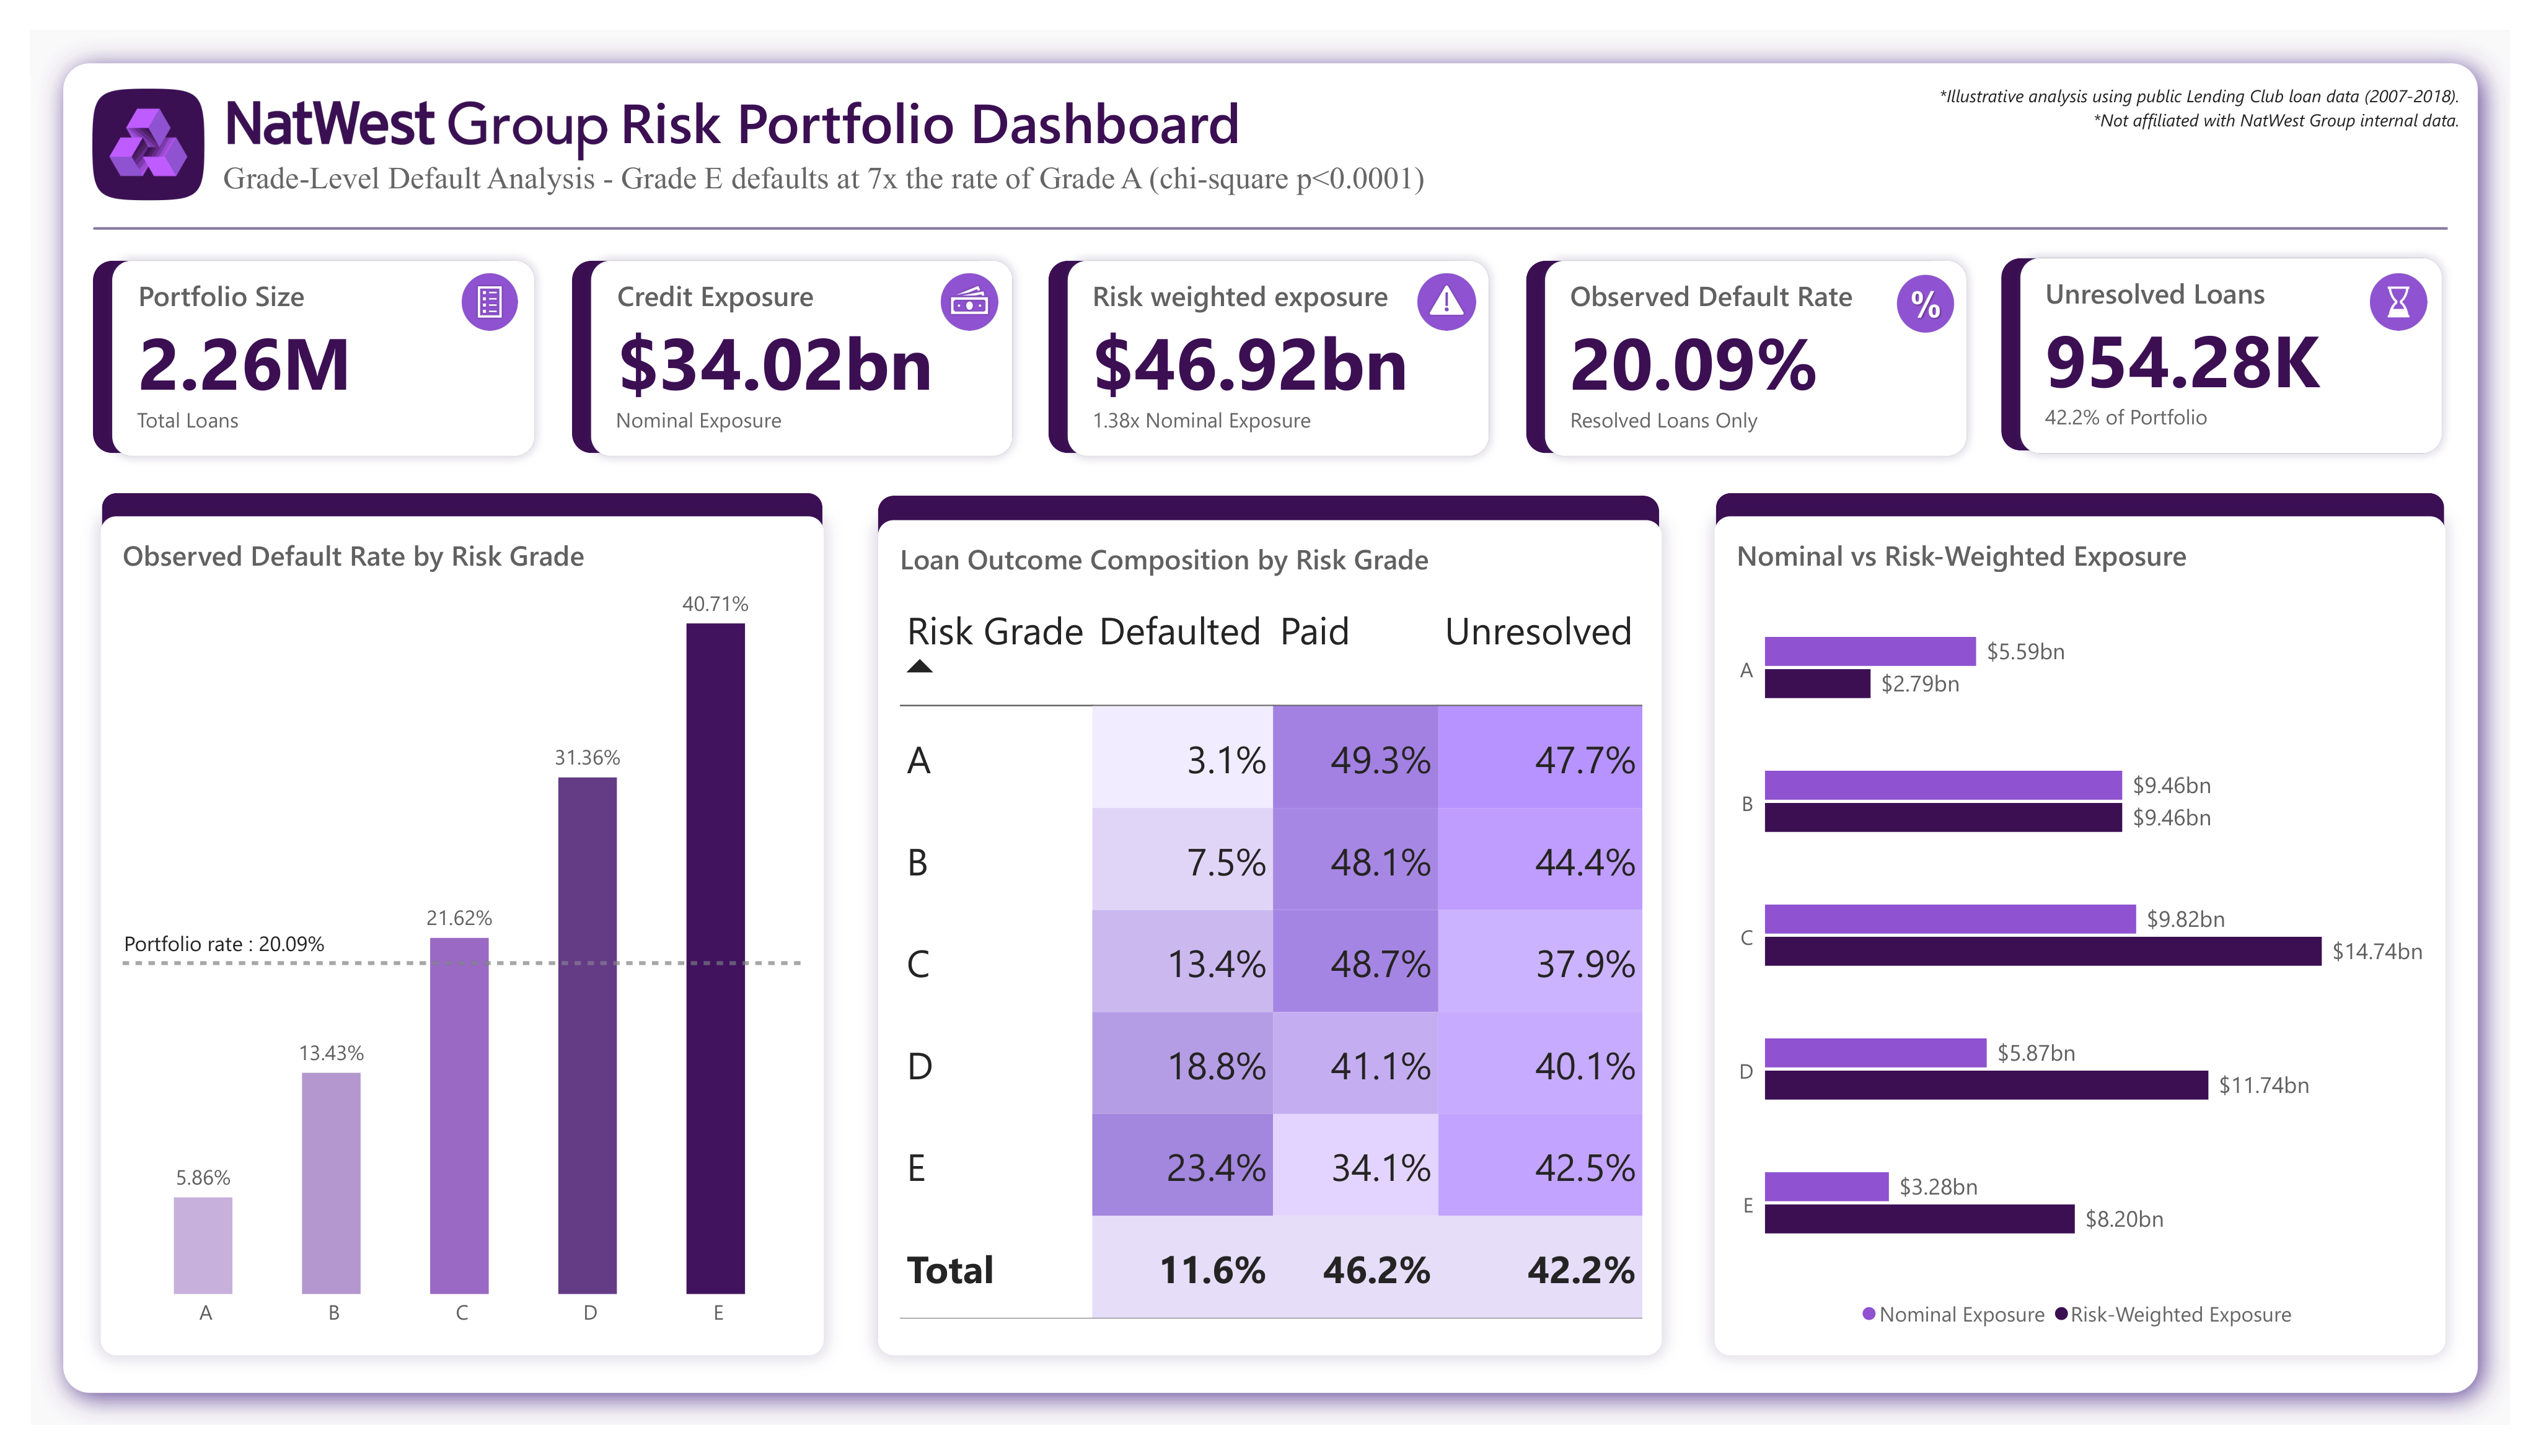

This screenshot's page, from the dashboard's own definition file:
{"tool":"powerbi","page":{"name":"Page 1","canvas":[1920,1080],"ordinal":0},"visuals":[{"type":"shape","box":[0,0,1920,1080],"z":0},{"type":"shape","box":[1305,358,564,666],"z":1000},{"type":"clusteredBarChart","title":"Nominal vs Risk-Weighted Exposure","fields":{"Category":["grade_summary.derived_grade_code"],"Y":["Sum(grade_summary.total_exposure)","Sum(grade_summary.weighted_exposure)"]},"box":[1304,376,566,650],"z":2000},{"type":"shape","box":[55,358,558,666],"z":3000},{"type":"shape","box":[656,360.5,605,664],"z":4000},{"type":"clusteredColumnChart","title":"Observed Default Rate by Risk Grade","fields":{"Category":["grade_summary.derived_grade_code"],"Y":["grade_summary.Observed Default Rate"]},"box":[54,376,560,650],"z":5000},{"type":"pivotTable","title":"Loan Outcome Composition by Risk Grade","fields":{"Rows":["grade_summary.derived_grade_code"],"Values":["grade_summary.Pct Defaulted","grade_summary.Pct Paid","grade_summary.Pct Unresolved"]},"box":[655.7,378.6,607.1,647.1],"z":6000},{"type":"image","box":[48,44,90,90],"z":7000},{"type":"image","box":[150,16,296,112],"z":8000},{"type":"shape","box":[1526,176.4,327.9,149],"z":8000,"group":"g1"},{"type":"shape","box":[787.6,178.4,327.9,149],"z":8000,"group":"g2"},{"type":"shape","box":[1157.5,178.4,327.9,149],"z":8000,"group":"g3"},{"type":"group","id":"g1","title":"Group 1","box":[1526,168,349.4,166.6],"z":8500,"group":"g6"},{"type":"group","id":"g2","title":"Group 1","box":[787.6,170,349.4,166.6],"z":8500,"group":"g4"},{"type":"group","id":"g3","title":"Group 1","box":[1157.5,170,349.4,166.6],"z":8500,"group":"g5"},{"type":"textbox","box":[148.5,101.4,1030.6,56.2],"z":9000},{"type":"shape","box":[1532.6,168,342.8,166.6],"z":9000,"group":"g1"},{"type":"shape","box":[794.2,170,342.8,166.6],"z":9000,"group":"g2"},{"type":"shape","box":[1164.1,170,342.8,166.6],"z":9000,"group":"g3"},{"type":"shape","box":[48,120,1824,66],"z":10000},{"type":"textbox","box":[456,41,518.3,71.7],"z":11000},{"type":"cardVisual","fields":{"Data":["Sum(grade_summary.num_unresolved)"]},"box":[1544.5,168,330.9,144.9],"z":11000,"group":"g1"},{"type":"cardVisual","fields":{"Data":["Sum(grade_summary.weighted_exposure)"]},"box":[806.1,170,330.9,144.9],"z":11000,"group":"g2"},{"type":"cardVisual","fields":{"Data":["grade_summary.Observed Default Rate"]},"box":[1176,170,330.9,144.9],"z":11000,"group":"g3"},{"type":"shape","box":[48.3,178.4,327.9,149],"z":12000},{"type":"textbox","box":[1559.7,288.4,281.7,34.4],"z":12001,"group":"g1"},{"type":"textbox","box":[821.3,290.4,281.7,34.4],"z":12001,"group":"g2"},{"type":"textbox","box":[1191.2,290.4,281.7,34.4],"z":12001,"group":"g3"},{"type":"shape","box":[54.9,170,342.8,166.6],"z":13000},{"type":"shape","box":[419.1,178.4,327.9,149],"z":14000},{"type":"cardVisual","fields":{"Data":["grade_summary.Total Loans"]},"box":[66.8,170,330.9,144.9],"z":15000},{"type":"shape","box":[425.7,170,342.8,166.6],"z":16000},{"type":"group","id":"g4","title":"Group 2","box":[787.6,170,349.4,166.6],"z":17000},{"type":"textbox","box":[82.1,290.4,281.7,34.4],"z":18000},{"type":"cardVisual","fields":{"Data":["Sum(grade_summary.total_exposure)"]},"box":[437.6,170,330.9,144.9],"z":19000},{"type":"group","id":"g5","title":"Group 2","box":[1157.5,170,349.4,166.6],"z":20000},{"type":"textbox","box":[452.9,290.4,281.7,34.4],"z":21000},{"type":"group","id":"g6","title":"Group 2","box":[1526,168,349.4,166.6],"z":22000},{"type":"image","box":[705,188,44,44],"z":23000},{"type":"image","box":[329,188,53,44],"z":24000},{"type":"image","box":[1069.1,188.2,54.5,43.6],"z":25000},{"type":"image","box":[1437.1,185.7,62.9,60.7],"z":26000},{"type":"image","box":[1810,188,47,44],"z":27000},{"type":"textbox","box":[72,696,300,34],"z":28000},{"type":"textbox","box":[1238.9,40,642.2,44.4],"z":28001}]}

Visuals, with their boxes on the page's 1920x1080 design canvas (x1, y1, x2, y2). These are canvas units, not pixel positions in the 2541x1456 screenshot, which may show the page scaled, cropped or inside an application window:
shape: Rect(0, 0, 1920, 1080)
shape: Rect(1305, 358, 1869, 1024)
"Nominal vs Risk-Weighted Exposure" clusteredBarChart: Rect(1304, 376, 1870, 1026)
shape: Rect(55, 358, 613, 1024)
shape: Rect(656, 360, 1261, 1024)
"Observed Default Rate by Risk Grade" clusteredColumnChart: Rect(54, 376, 614, 1026)
"Loan Outcome Composition by Risk Grade" pivotTable: Rect(656, 379, 1263, 1026)
image: Rect(48, 44, 138, 134)
image: Rect(150, 16, 446, 128)
shape: Rect(1526, 176, 1854, 325)
shape: Rect(788, 178, 1116, 327)
shape: Rect(1158, 178, 1485, 327)
"Group 1" group: Rect(1526, 168, 1875, 335)
"Group 1" group: Rect(788, 170, 1137, 337)
"Group 1" group: Rect(1158, 170, 1507, 337)
textbox: Rect(148, 101, 1179, 158)
shape: Rect(1533, 168, 1875, 335)
shape: Rect(794, 170, 1137, 337)
shape: Rect(1164, 170, 1507, 337)
shape: Rect(48, 120, 1872, 186)
textbox: Rect(456, 41, 974, 113)
cardVisual - Sum(grade_summary.num_unresolved): Rect(1544, 168, 1875, 313)
cardVisual - Sum(grade_summary.weighted_exposure): Rect(806, 170, 1137, 315)
cardVisual - grade_summary.Observed Default Rate: Rect(1176, 170, 1507, 315)
shape: Rect(48, 178, 376, 327)
textbox: Rect(1560, 288, 1841, 323)
textbox: Rect(821, 290, 1103, 325)
textbox: Rect(1191, 290, 1473, 325)
shape: Rect(55, 170, 398, 337)
shape: Rect(419, 178, 747, 327)
cardVisual - grade_summary.Total Loans: Rect(67, 170, 398, 315)
shape: Rect(426, 170, 768, 337)
"Group 2" group: Rect(788, 170, 1137, 337)
textbox: Rect(82, 290, 364, 325)
cardVisual - Sum(grade_summary.total_exposure): Rect(438, 170, 768, 315)
"Group 2" group: Rect(1158, 170, 1507, 337)
textbox: Rect(453, 290, 735, 325)
"Group 2" group: Rect(1526, 168, 1875, 335)
image: Rect(705, 188, 749, 232)
image: Rect(329, 188, 382, 232)
image: Rect(1069, 188, 1124, 232)
image: Rect(1437, 186, 1500, 246)
image: Rect(1810, 188, 1857, 232)
textbox: Rect(72, 696, 372, 730)
textbox: Rect(1239, 40, 1881, 84)
